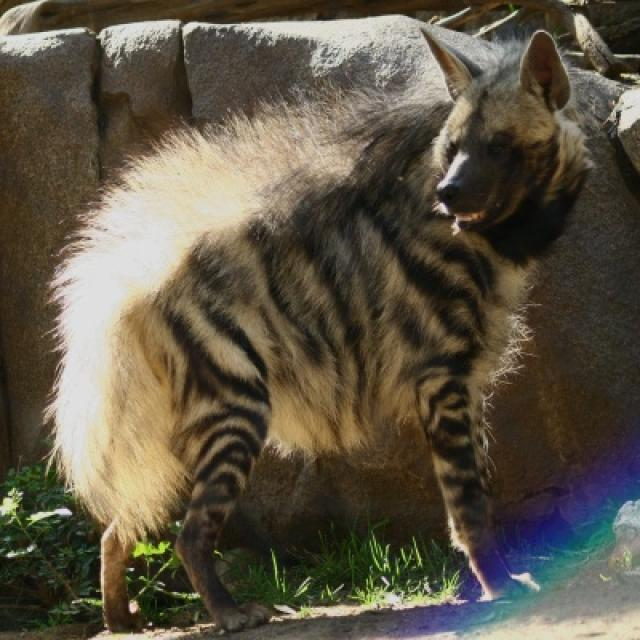hyena: (53, 24, 587, 629)
